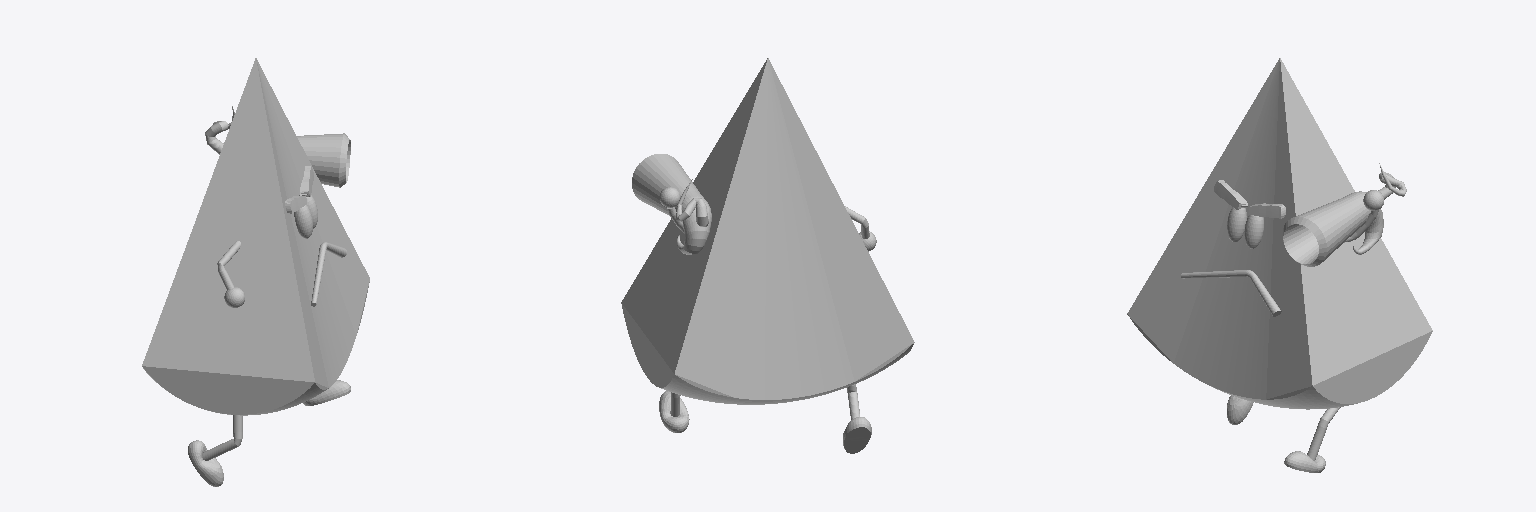
The model's file is watermelon.obj.
3 renders of one model, left to right at view 1: azimuth 30°, elevation 25°; view 2: azimuth 150°, elevation 25°; view 3: azimuth 270°, elevation 25°, orthographic.
Parts seen in each view (by area): view 1: BODY_M_Plane, MelonGun_Cylinder.008, FOOT_R_Sphere, HAND_R_Sphere.004, EYE_L_Sphere.003, LEG_R_Cylinder.001, EYEBROW_L_eyeR_Plane.001, MOUTH_Cylinder.005, FOOT_L_Sphere.001; view 2: BODY_M_Plane, MelonGun_Cylinder.008, FOOT_R_Sphere, FOOT_L_Sphere.001; view 3: BODY_M_Plane, MelonGun_Cylinder.008, EYE_L_Sphere.003, EYEBROW_L_eyeR_Plane.001, MOUTH_Cylinder.005, FOOT_L_Sphere.001, HAND_L_Sphere.005, LEG_L_Cylinder.004, FOOT_R_Sphere.
Boxes of the visible parts, x1,y1,x2,y2 form: BODY_M_Plane: [142, 58, 369, 415]; MelonGun_Cylinder.008: [205, 106, 350, 187]; FOOT_R_Sphere: [188, 440, 223, 486]; HAND_R_Sphere.004: [217, 241, 244, 307]; EYE_L_Sphere.003: [294, 195, 317, 238]; LEG_R_Cylinder.001: [202, 415, 242, 460]; EYEBROW_L_eyeR_Plane.001: [285, 166, 313, 213]; MOUTH_Cylinder.005: [311, 242, 346, 306]; FOOT_L_Sphere.001: [303, 380, 350, 405]; BODY_M_Plane: [621, 58, 914, 404]; MelonGun_Cylinder.008: [632, 154, 711, 254]; FOOT_R_Sphere: [843, 417, 871, 453]; FOOT_L_Sphere.001: [659, 391, 689, 432]; BODY_M_Plane: [1127, 58, 1432, 409]; MelonGun_Cylinder.008: [1283, 163, 1406, 266]; EYE_L_Sphere.003: [1227, 207, 1263, 248]; EYEBROW_L_eyeR_Plane.001: [1214, 180, 1285, 218]; MOUTH_Cylinder.005: [1181, 270, 1281, 316]; FOOT_L_Sphere.001: [1284, 451, 1325, 472]; HAND_L_Sphere.005: [1344, 190, 1383, 242]; LEG_L_Cylinder.004: [1307, 407, 1340, 460]; FOOT_R_Sphere: [1227, 395, 1253, 424].
Size of the model in its own units: 0.782 by 1.14 by 0.7934.